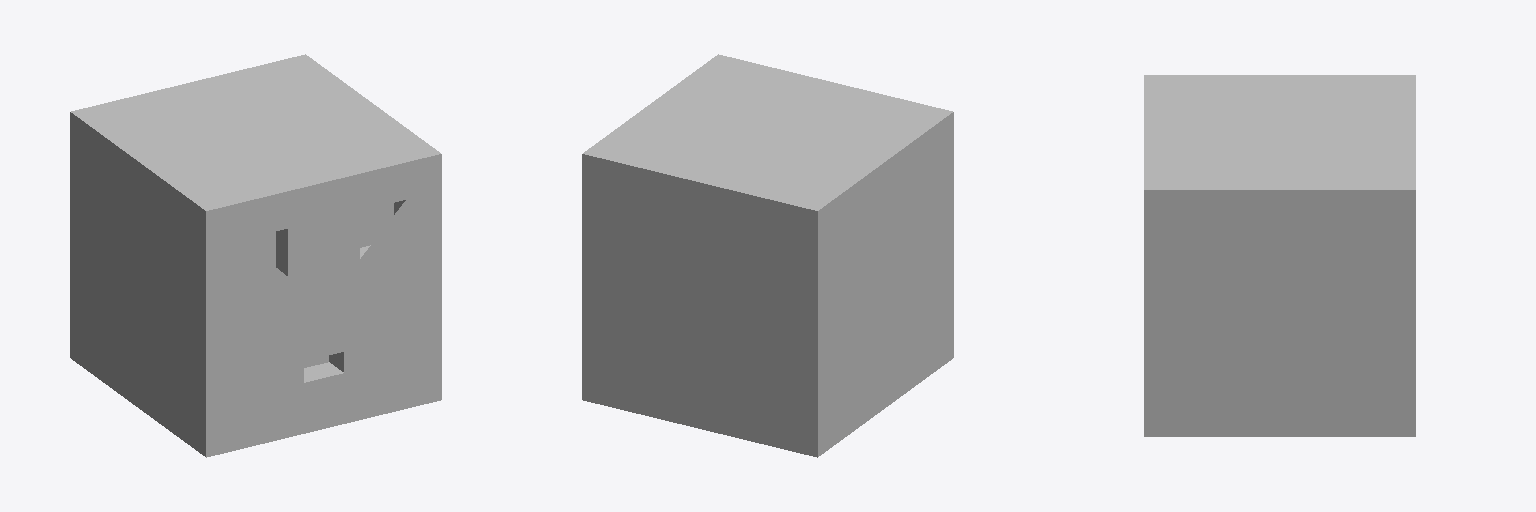
Rendered from coal 1.obj.
3 renders of one model, left to right at view 1: azimuth 30°, elevation 25°; view 2: azimuth 150°, elevation 25°; view 3: azimuth 270°, elevation 25°, orthographic.
Visible parts, largest first — view 1: Cube; view 2: Cube; view 3: Cube.
Boxes of the visible parts, box(x1,y1,x2,y2) form: Cube: box(70, 54, 441, 457); Cube: box(582, 54, 953, 457); Cube: box(1144, 75, 1415, 436).
Size of the model in its own units: 2 by 2 by 2.